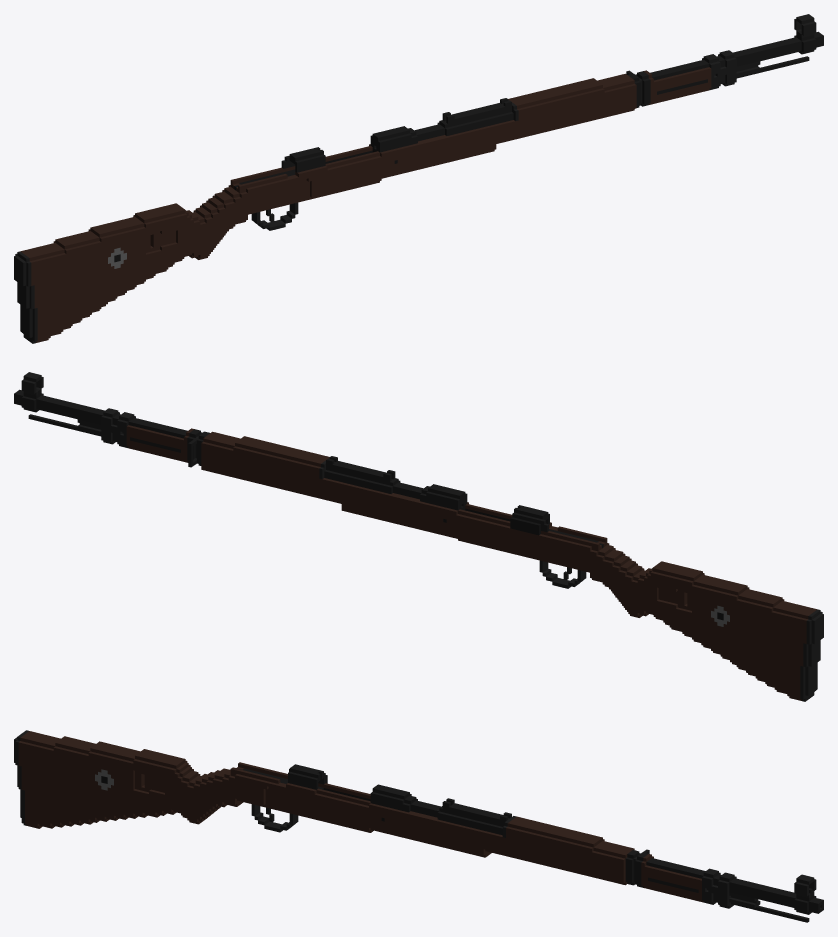
File: Kar98k_stock_loaded_no_sighthood.obj
3 views of the same model, one above another, from view 1: azimuth 30°, elevation 25°; view 2: azimuth 150°, elevation 25°; view 3: azimuth 330°, elevation 25° (orthographic).
Bounding box in the file's own units: 25.2 × 4 × 0.9.
Materials: 1 (1 with a texture image).
